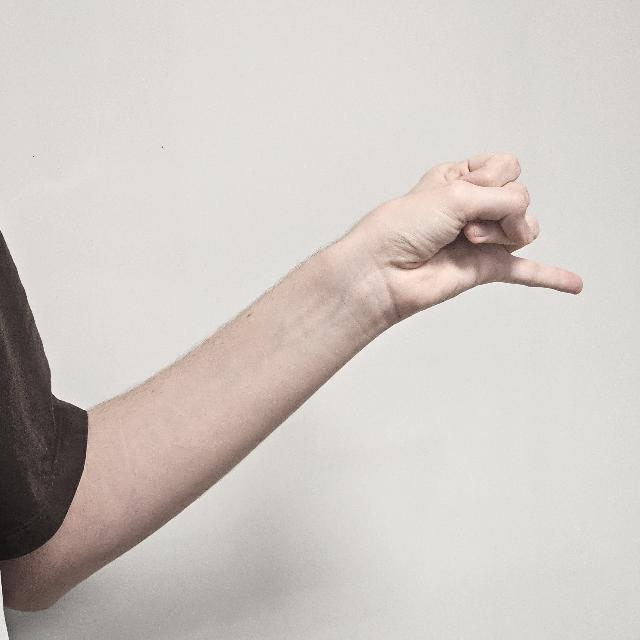Esquerda: (351, 124, 589, 348)
